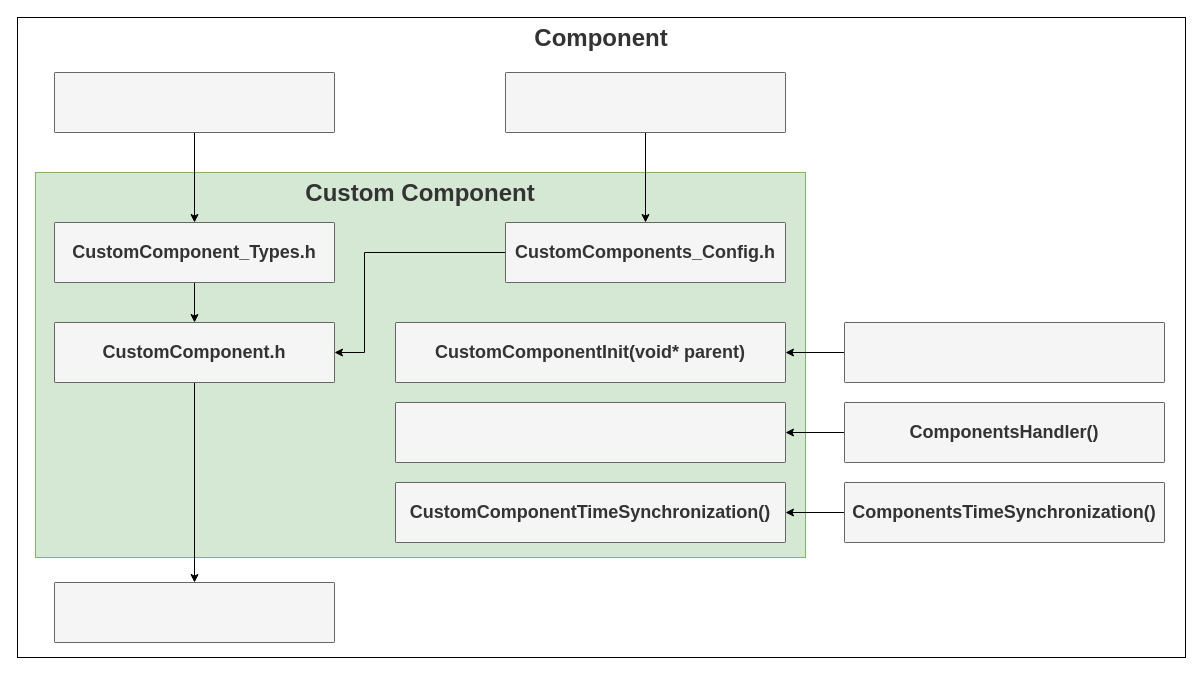
This 1203x675 diagram has some shape labels left out. The box of each missing label's shape, as (x1, y1, x2, y2) in pixels:
Components.h: (54, 582, 334, 642)
Components_Config.h: (504, 72, 786, 132)
Components_Types.h: (54, 72, 334, 132)
ComponentsInit(void* parent): (844, 322, 1164, 382)
CustomComponentHandler(): (394, 402, 786, 462)
